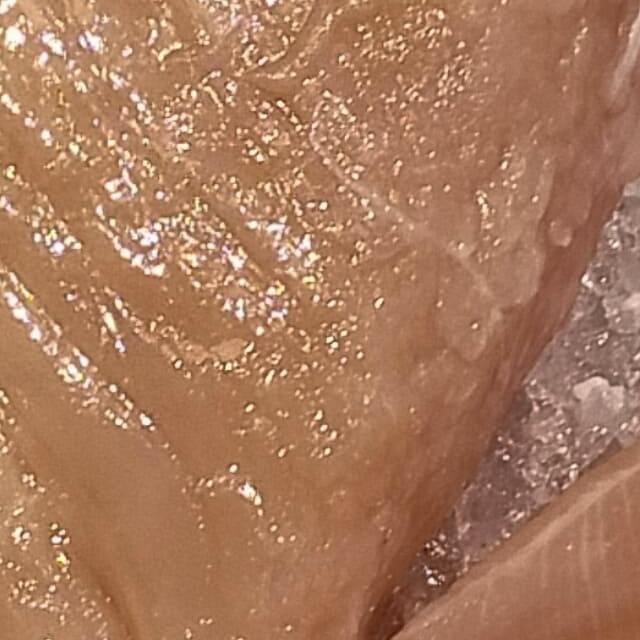chicken: (0, 0, 640, 640), (47, 0, 640, 640)
